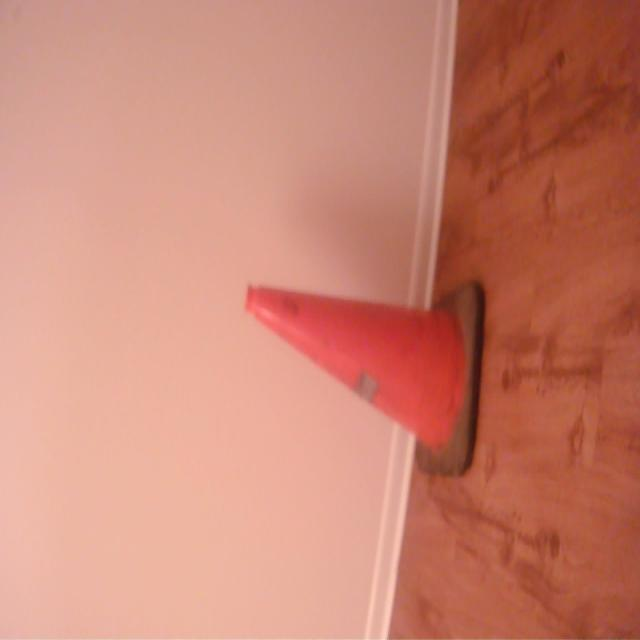traffic cone: (243, 274, 491, 487)
